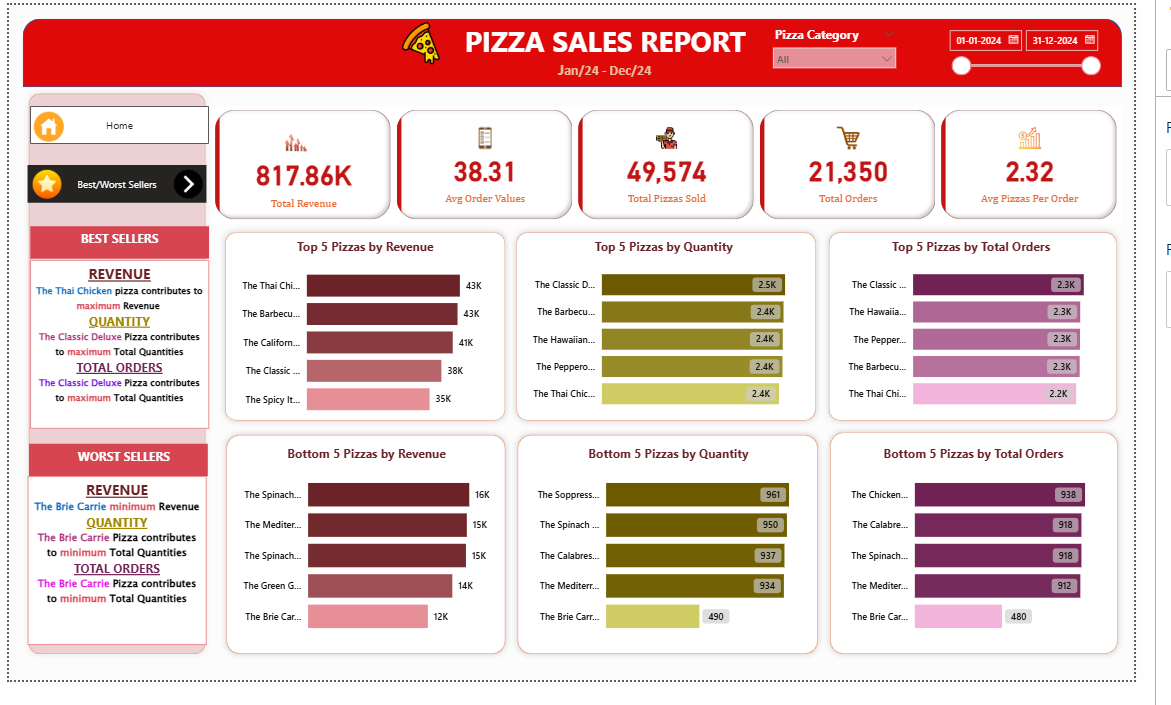

This screenshot's page, from the dashboard's own definition file:
{"tool":"powerbi","page":{"name":"Best/Worst Sellers","canvas":[1500,900],"ordinal":1},"visuals":[{"type":"cardVisual","fields":{"Data":["pizza_sales.Total Revenue","pizza_sales.Avg Order Values","pizza_sales.Total Pizzas Sold","pizza_sales.Total Orders","pizza_sales.Avg Pizzas Per Order"]},"box":[270.7,134.5,1213.8,156.9],"z":0},{"type":"shape","box":[19,19,1465.5,91.4],"z":1000},{"type":"textbox","box":[589.7,19,410.3,65.5],"z":2000},{"type":"textbox","box":[694.8,69,198.3,41.4],"z":3000},{"type":"image","box":[508.6,19,81,65.5],"z":4000},{"type":"shape","box":[279.3,294.8,389.7,267.2],"z":5000},{"type":"shape","box":[18.3,110,251.7,763.3],"z":6000},{"type":"textbox","box":[28.3,295,238.3,43.3],"z":7000},{"type":"textbox","box":[28.3,340,238.3,225],"z":8000},{"type":"textbox","box":[26.7,585,238.3,43.3],"z":9000},{"type":"textbox","box":[25,628.3,238.3,225],"z":10000},{"type":"slicer","fields":{"Values":["pizza_sales.pizza_category"]},"box":[1008.6,24.1,184.5,87.9],"z":11000},{"type":"slicer","fields":{"Values":["pizza_sales.order_date"]},"box":[1241.4,24.1,222.4,87.9],"z":12000},{"type":"shape","box":[669,294.8,415.5,267.2],"z":13000},{"type":"shape","box":[1084.5,294.8,400,267.2],"z":14000},{"type":"shape","box":[670,565,416.7,308.3],"z":15000},{"type":"shape","box":[281.7,565,388.3,308.3],"z":16000},{"type":"shape","box":[1086.7,561.7,400,311.7],"z":17000},{"type":"barChart","title":"Top 5 Pizzas by Revenue","fields":{"Category":["pizza_sales.pizza_name"],"Y":["pizza_sales.Total Revenue"]},"box":[293.3,310,363.3,251.7],"z":18000},{"type":"barChart","title":"Bottom 5 Pizzas by Revenue","fields":{"Category":["pizza_sales.pizza_name"],"Y":["pizza_sales.Total Revenue"]},"box":[295,586.7,363.3,266.7],"z":19000},{"type":"barChart","title":"Top 5 Pizzas by Quantity","fields":{"Category":["pizza_sales.pizza_name"],"Y":["pizza_sales.Total Pizzas Sold"]},"box":[681,310.3,382.8,243.1],"z":20000},{"type":"barChart","title":"Bottom 5 Pizzas by Quantity","fields":{"Category":["pizza_sales.pizza_name"],"Y":["pizza_sales.Total Pizzas Sold"]},"box":[688.3,586.7,381.7,266.7],"z":21000},{"type":"barChart","title":"Top 5 Pizzas by Total Orders","fields":{"Category":["pizza_sales.pizza_name"],"Y":["pizza_sales.Total Orders"]},"box":[1101.7,310.3,362.1,243.1],"z":22000},{"type":"barChart","title":"Bottom 5 Pizzas by Total Orders","fields":{"Category":["pizza_sales.pizza_name"],"Y":["pizza_sales.Total Orders"]},"box":[1105,586.7,361.7,266.7],"z":23000},{"type":"pageNavigator","box":[25,213.3,238.3,50],"z":24000},{"type":"pageNavigator","box":[28.3,135,238.3,50],"z":25000},{"type":"image","box":[215,208.3,48.3,60],"z":26000},{"type":"image","box":[28.3,135,50,55],"z":27000},{"type":"image","box":[26.7,215,48.3,48.3],"z":28000}]}

Visuals, with their boxes in screenshot pixels (x1, y1, x2, y2), scaled from the page's 1500x900 canvas onto the 1171x705 screenshot:
cardVisual - pizza_sales.Total Revenue x pizza_sales.Avg Order Values: pyautogui.locateOnScreen(211, 105, 1159, 228)
shape: pyautogui.locateOnScreen(15, 15, 1159, 86)
textbox: pyautogui.locateOnScreen(460, 15, 781, 66)
textbox: pyautogui.locateOnScreen(542, 54, 697, 86)
image: pyautogui.locateOnScreen(397, 15, 460, 66)
shape: pyautogui.locateOnScreen(218, 231, 522, 440)
shape: pyautogui.locateOnScreen(14, 86, 211, 684)
textbox: pyautogui.locateOnScreen(22, 231, 208, 265)
textbox: pyautogui.locateOnScreen(22, 266, 208, 443)
textbox: pyautogui.locateOnScreen(21, 458, 207, 492)
textbox: pyautogui.locateOnScreen(20, 492, 206, 668)
slicer - pizza_sales.pizza_category: pyautogui.locateOnScreen(787, 19, 931, 88)
slicer - pizza_sales.order_date: pyautogui.locateOnScreen(969, 19, 1143, 88)
shape: pyautogui.locateOnScreen(522, 231, 847, 440)
shape: pyautogui.locateOnScreen(847, 231, 1159, 440)
shape: pyautogui.locateOnScreen(523, 443, 848, 684)
shape: pyautogui.locateOnScreen(220, 443, 523, 684)
shape: pyautogui.locateOnScreen(848, 440, 1161, 684)
"Top 5 Pizzas by Revenue" barChart: pyautogui.locateOnScreen(229, 243, 513, 440)
"Bottom 5 Pizzas by Revenue" barChart: pyautogui.locateOnScreen(230, 460, 514, 668)
"Top 5 Pizzas by Quantity" barChart: pyautogui.locateOnScreen(532, 243, 830, 433)
"Bottom 5 Pizzas by Quantity" barChart: pyautogui.locateOnScreen(537, 460, 835, 668)
"Top 5 Pizzas by Total Orders" barChart: pyautogui.locateOnScreen(860, 243, 1143, 433)
"Bottom 5 Pizzas by Total Orders" barChart: pyautogui.locateOnScreen(863, 460, 1145, 668)
pageNavigator: pyautogui.locateOnScreen(20, 167, 206, 206)
pageNavigator: pyautogui.locateOnScreen(22, 106, 208, 145)
image: pyautogui.locateOnScreen(168, 163, 206, 210)
image: pyautogui.locateOnScreen(22, 106, 61, 149)
image: pyautogui.locateOnScreen(21, 168, 59, 206)
